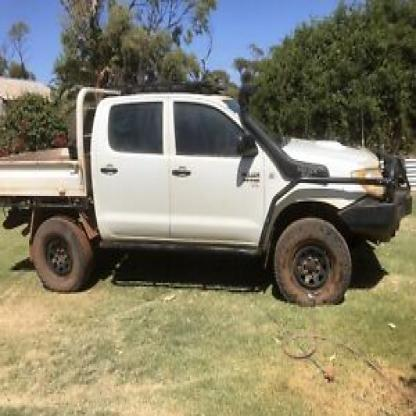light_vehicle: (0, 78, 413, 309)
